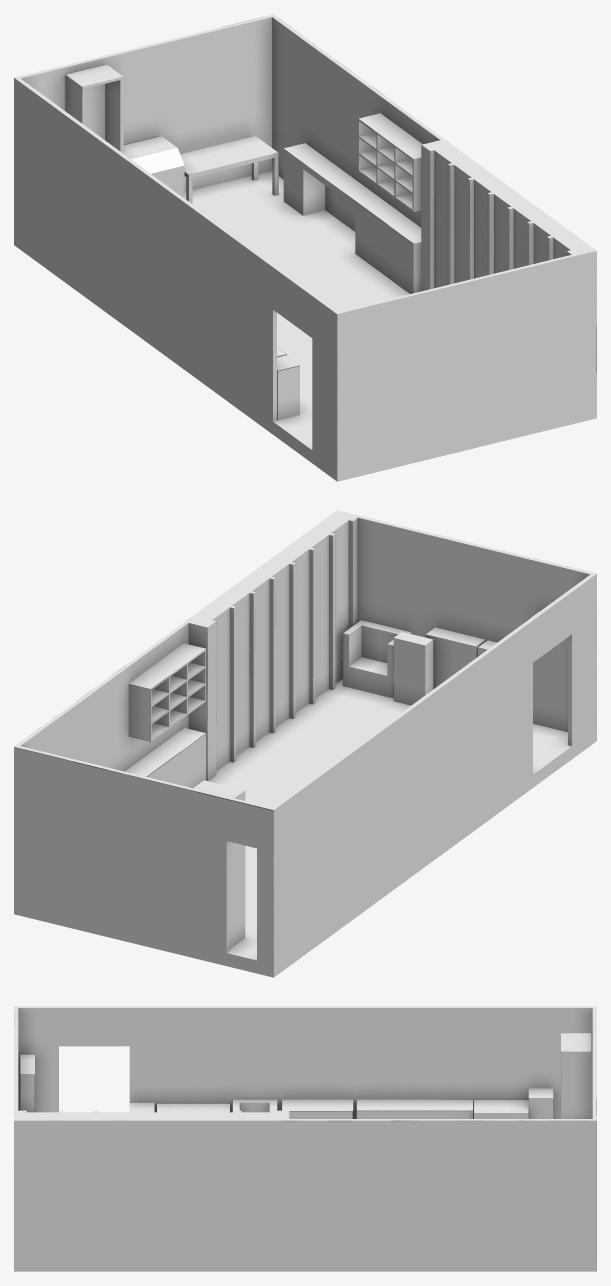
3 renders of one model, top to bottom at view 1: azimuth 30°, elevation 25°; view 2: azimuth 150°, elevation 25°; view 3: azimuth 270°, elevation 25°, orthographic. The views are drawn at different scales.
Visible parts, largest first — view 1: Part Studio 1 (1); view 2: Part Studio 1 (1); view 3: Part Studio 1 (1).
Part boxes in pixels (x1=…): Part Studio 1 (1): x1=14, y1=14, x2=596, y2=481; Part Studio 1 (1): x1=14, y1=510, x2=596, y2=977; Part Studio 1 (1): x1=14, y1=1006, x2=596, y2=1271.
Size of the model in its own units: 129 by 79.2 by 277.
1 material, 1 textured.
